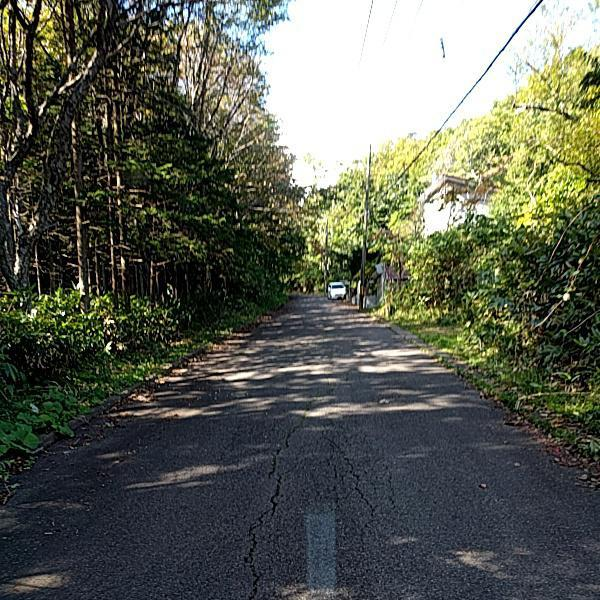D00: (237, 358, 343, 599)
